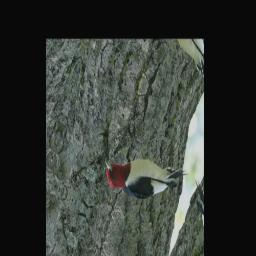Woodpecker: (95, 105, 193, 243)
